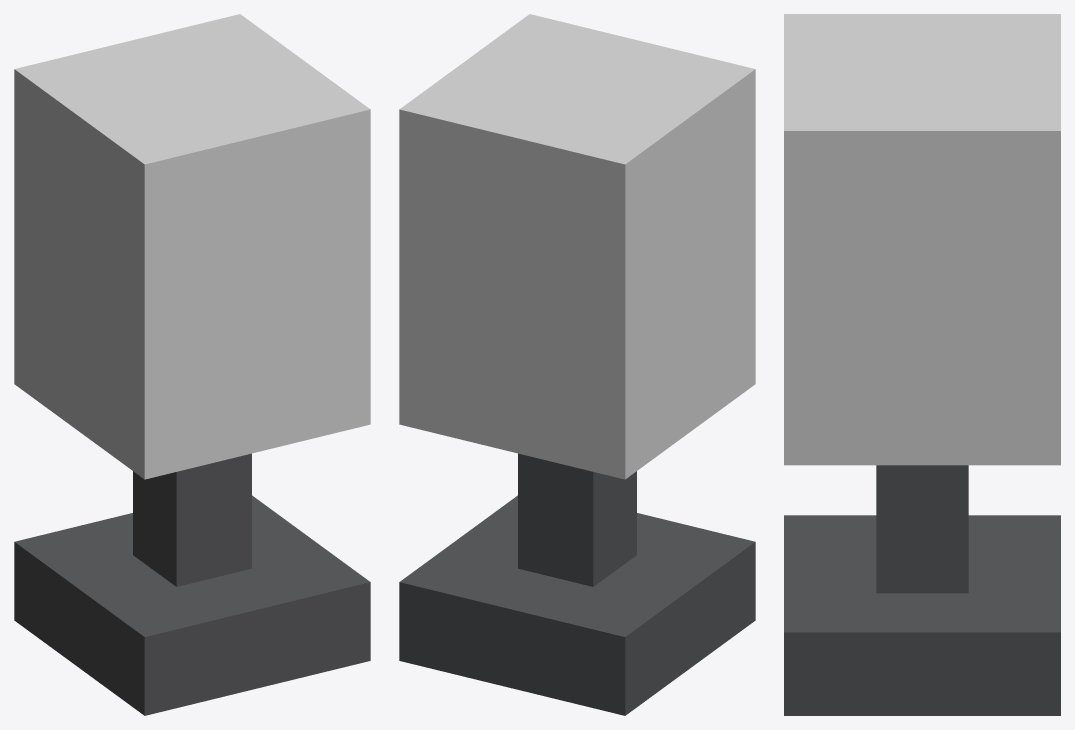
Rendered from lamp_02.dae.
3 renders of one model, left to right at view 1: azimuth 30°, elevation 25°; view 2: azimuth 150°, elevation 25°; view 3: azimuth 270°, elevation 25°, orthographic. The views are drawn at different scales.
Parts seen in each view (by area): view 1: Untitled, Untitled.001; view 2: Untitled, Untitled.001; view 3: Untitled, Untitled.001.
Part boxes in pixels (<box>): Untitled: <box>14,14,370,479</box>; Untitled.001: <box>14,453,370,715</box>; Untitled: <box>399,14,755,479</box>; Untitled.001: <box>399,453,755,715</box>; Untitled: <box>784,14,1060,465</box>; Untitled.001: <box>784,465,1060,715</box>.
Size of the model in its own units: 0.18 by 0.18 by 0.42.
2 materials, 2 textured.
